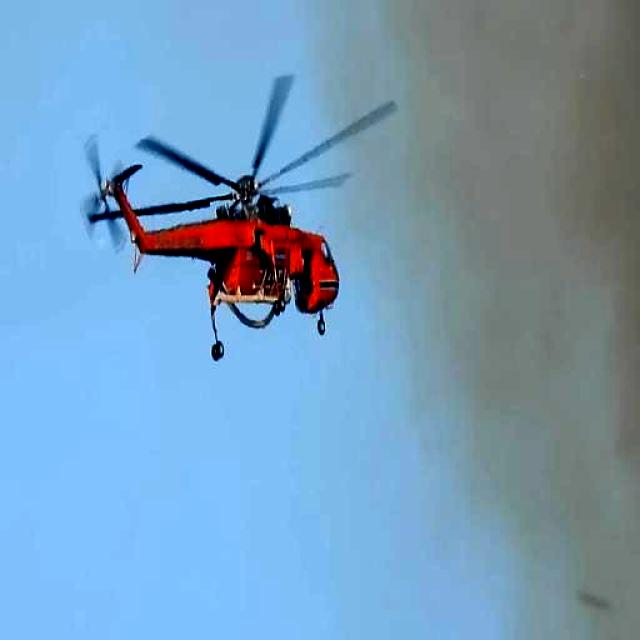drone: (82, 81, 388, 370)
